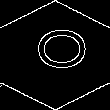O_W: (26, 34, 84, 76)
